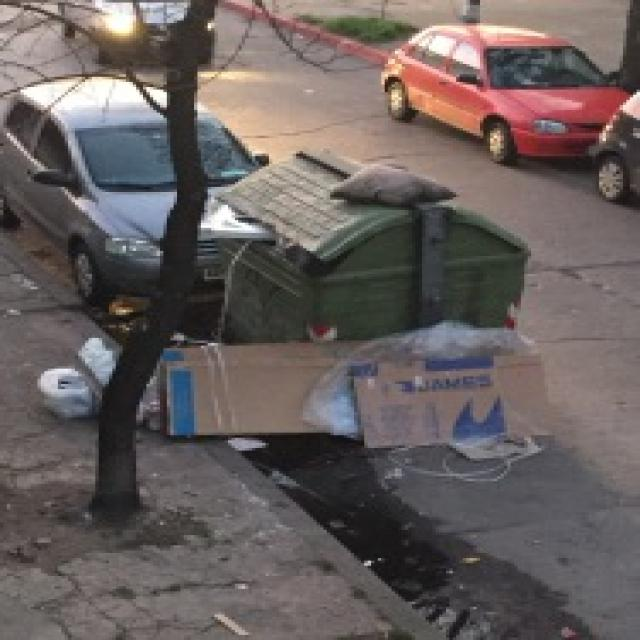garbage: (145, 318, 582, 461), (28, 325, 112, 420), (324, 162, 456, 208)
